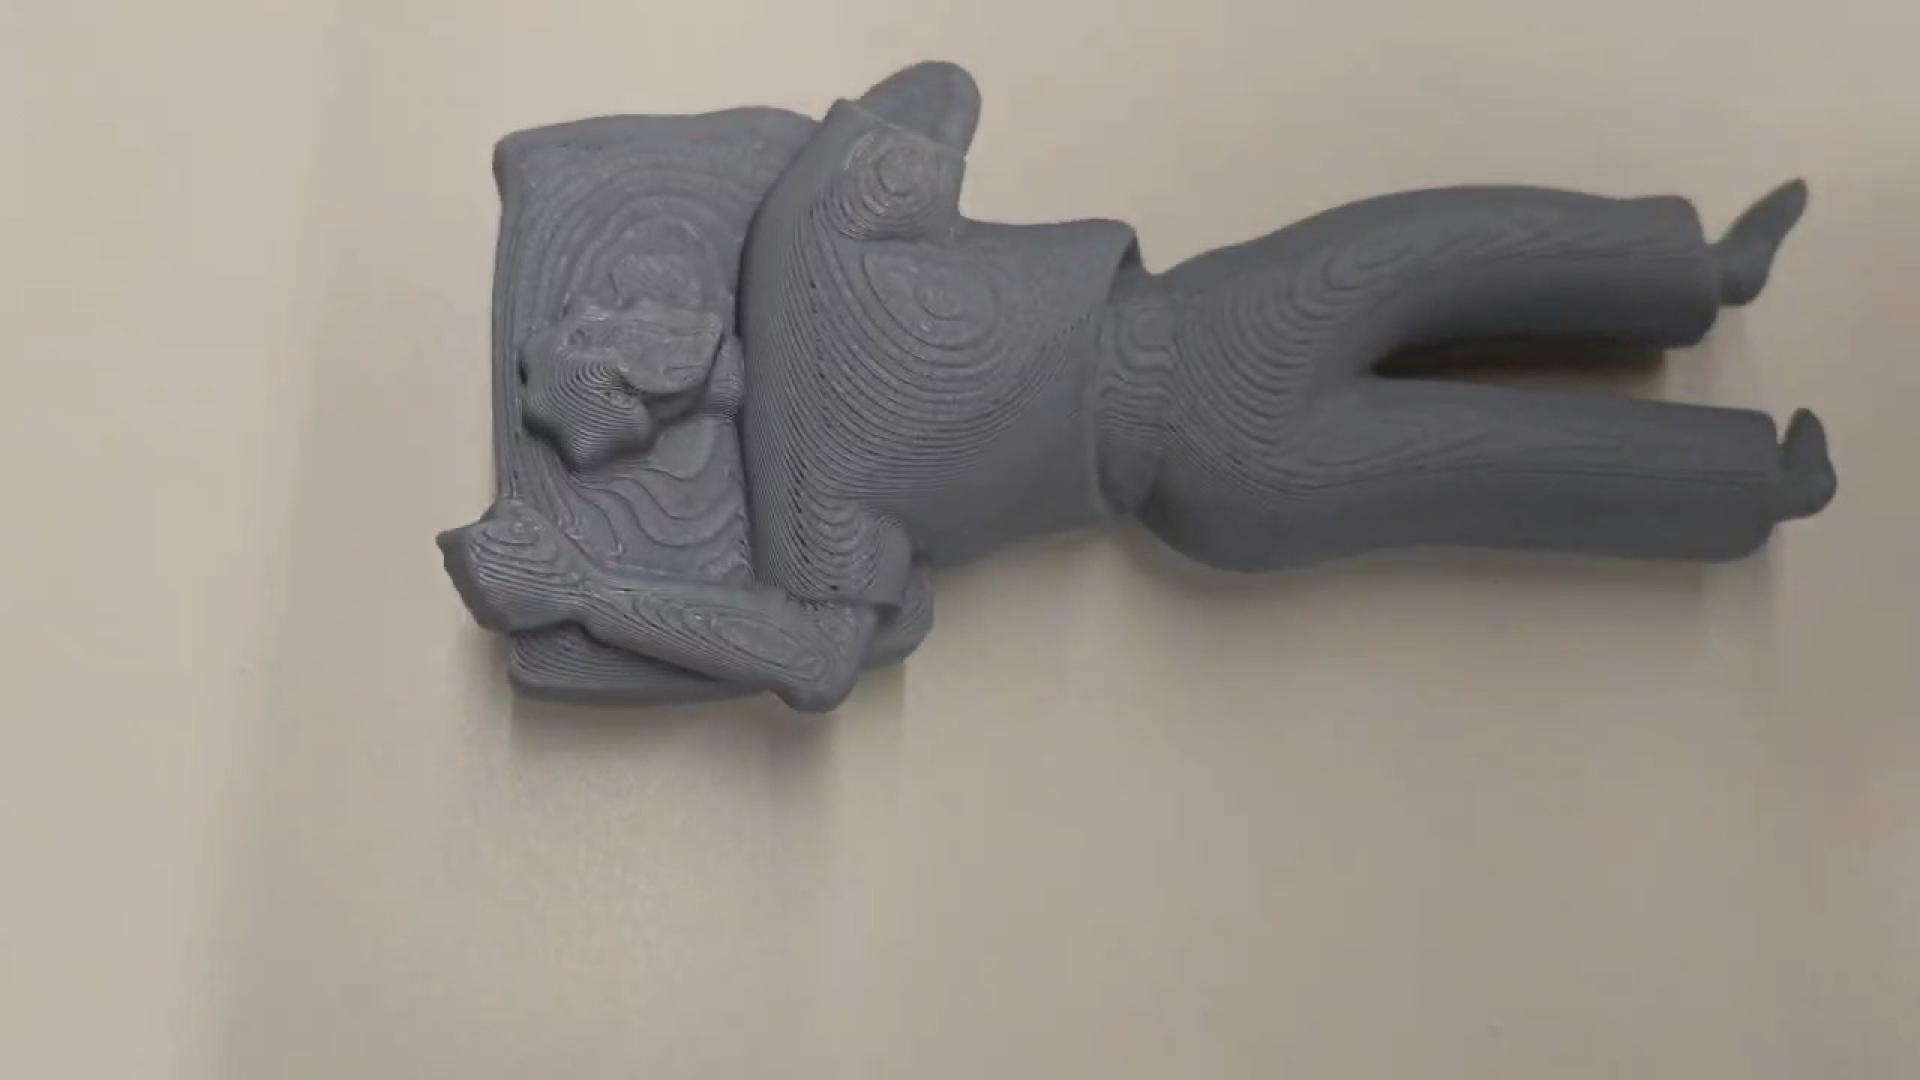Bad-style: (442, 61, 1851, 723)
